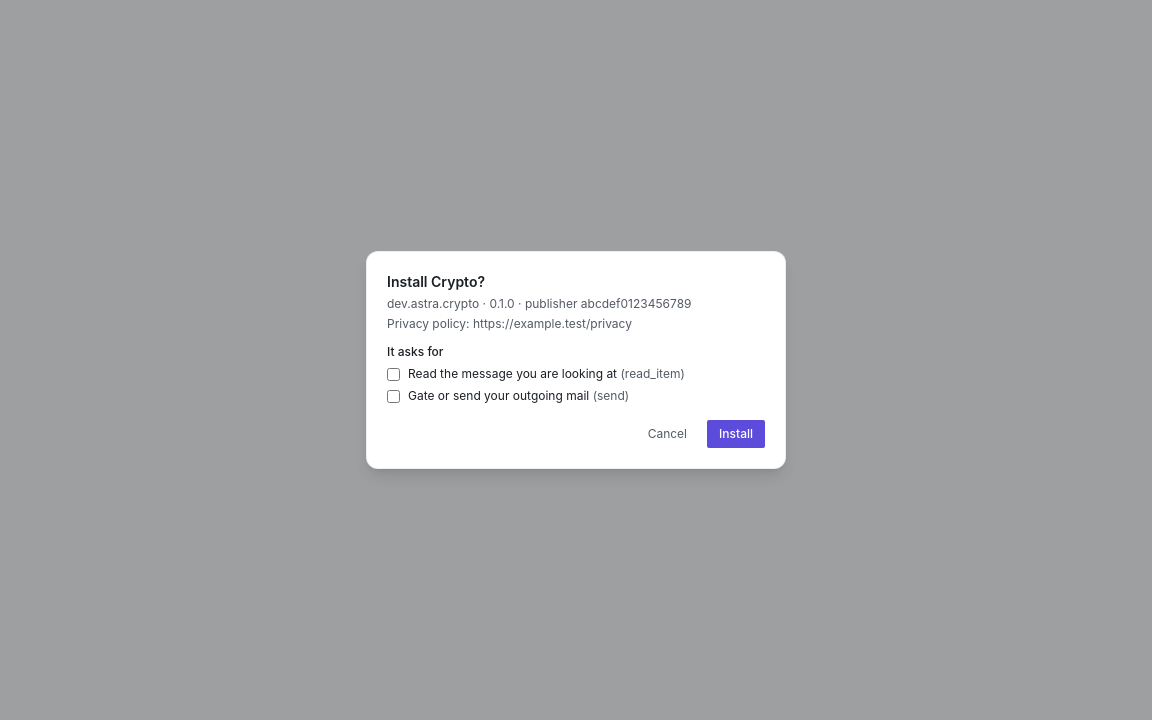
Test: the install consent dialog › shows the refusal and stands when the install fails
Click the button "Install" at (736, 434), box [707,420,765,448]
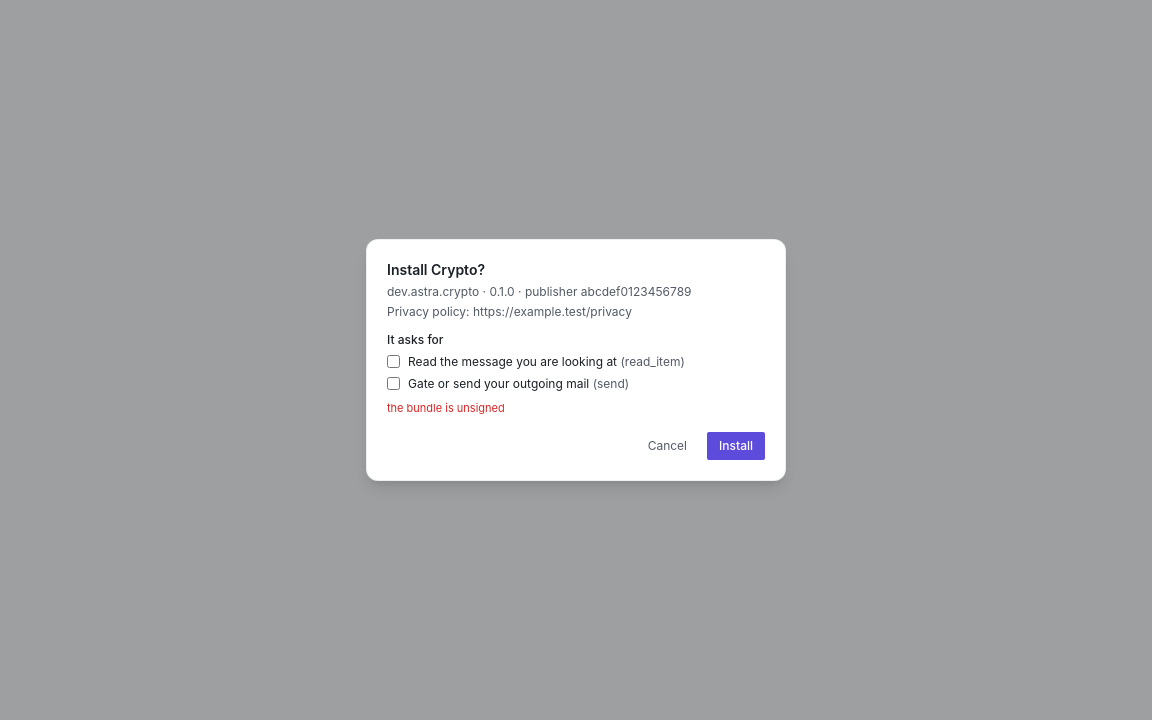
Expected: the dialog is shown, [366,239,786,481]
Expected: the message reads "the bundle is unsigned", [387,401,505,415]
